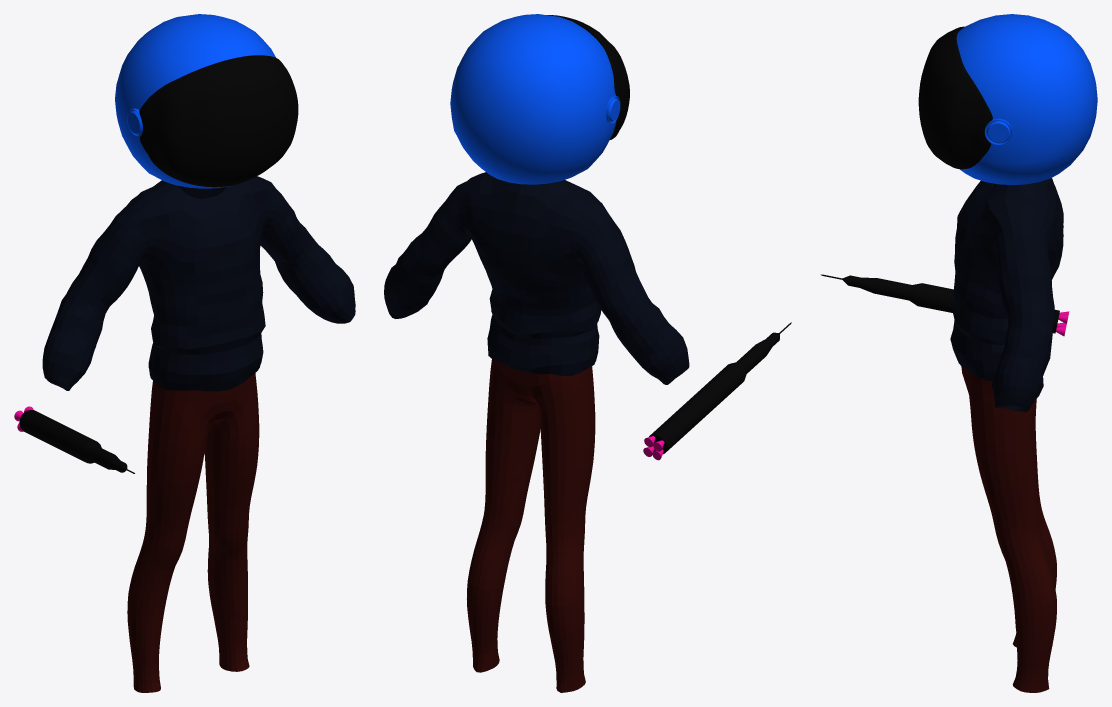
File: Char_Items_002.obj
3 renders of one model, left to right at view 1: azimuth 30°, elevation 25°; view 2: azimuth 150°, elevation 25°; view 3: azimuth 270°, elevation 25°, orthographic. The views are drawn at different scales.
Parts seen in each view (by area): view 1: Sweater Character_Geo, Character_Geo Pants, polySurface3 polySurface2, polySurface2, Rocket pCylinder3, Rocket pCylinder4, Rocket pCylinder5; view 2: Sweater Character_Geo, Character_Geo Pants, polySurface2, Rocket pCylinder3, polySurface3 polySurface2, Rocket pCylinder4, Rocket pCylinder5; view 3: Sweater Character_Geo, polySurface2, Character_Geo Pants, polySurface3 polySurface2, Rocket pCylinder4, Rocket pCylinder5, polySurface2 pCylinder1.
Part boxes in pixels (box(x1,y1,x2,y2)): Sweater Character_Geo: box(42, 176, 355, 391); Character_Geo Pants: box(127, 373, 259, 692); polySurface3 polySurface2: box(139, 55, 298, 187); polySurface2: box(115, 14, 275, 188); Rocket pCylinder3: box(19, 409, 78, 453); Rocket pCylinder4: box(64, 432, 101, 463); Rocket pCylinder5: box(88, 446, 134, 473); Sweater Character_Geo: box(384, 172, 689, 384); Character_Geo Pants: box(467, 359, 595, 692); polySurface2: box(450, 14, 618, 184); Rocket pCylinder3: box(649, 382, 724, 454); polySurface3 polySurface2: box(547, 15, 629, 139); Rocket pCylinder4: box(708, 362, 747, 400); Rocket pCylinder5: box(736, 322, 791, 373); Sweater Character_Geo: box(950, 178, 1063, 411); polySurface2: box(956, 14, 1097, 185); Character_Geo Pants: box(961, 366, 1056, 692); polySurface3 polySurface2: box(918, 26, 992, 169); Rocket pCylinder4: box(909, 283, 953, 312); Rocket pCylinder5: box(820, 274, 911, 300); polySurface2 pCylinder1: box(984, 118, 1012, 145).
Bounding box in the file's own units: 21.05 × 41.62 × 16.18.
